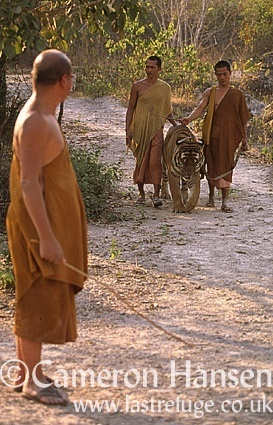tigre: (159, 124, 206, 215)
